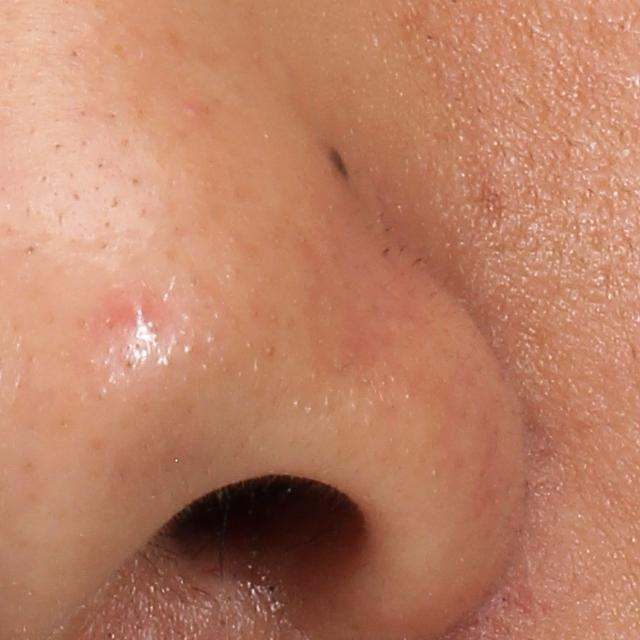nevus: (318, 137, 355, 191)
